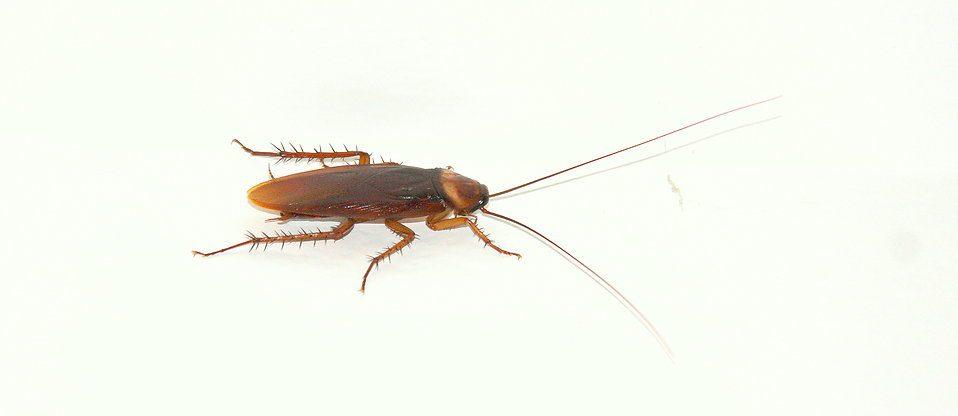cockroach: (232, 148, 494, 255)
